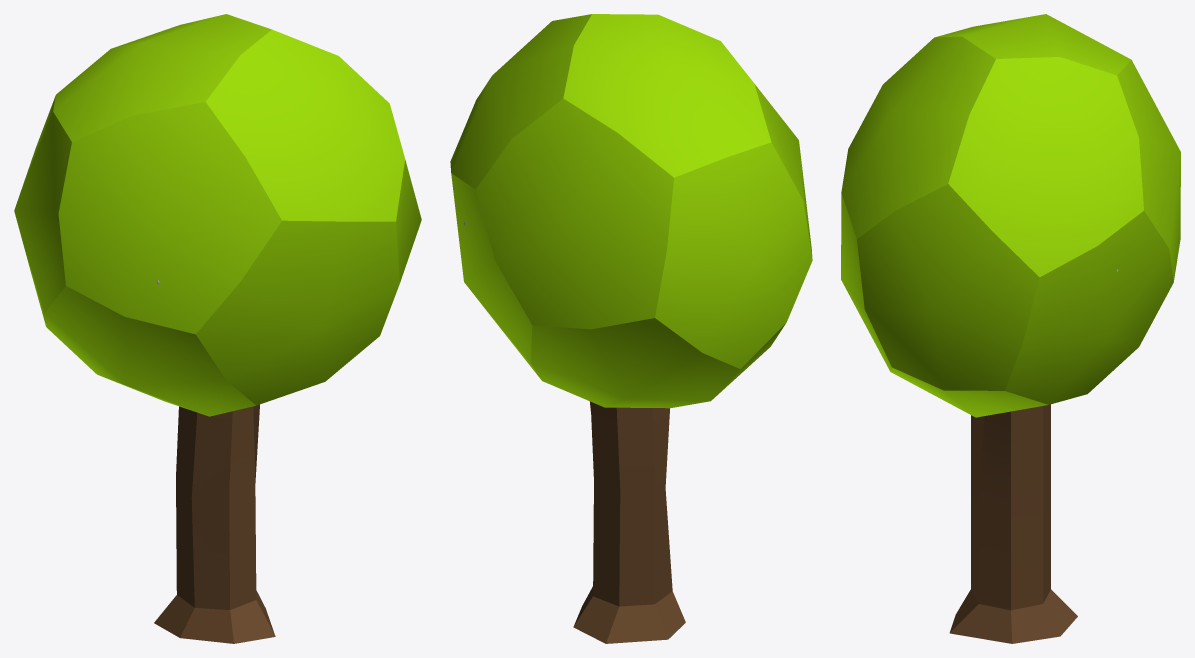
File: tree02.fbx
The picture shows the model from 3 angles, left to right: view 1: azimuth 30°, elevation 25°; view 2: azimuth 150°, elevation 25°; view 3: azimuth 270°, elevation 25°; orthographic projection.
Parts seen in each view (by area): view 1: Tree, Stump; view 2: Tree, Stump; view 3: Tree, Stump.
Boxes of the visible parts, bbox=[...] form: Tree: bbox=[14, 14, 421, 609]; Stump: bbox=[154, 590, 275, 643]; Tree: bbox=[450, 14, 812, 606]; Stump: bbox=[573, 586, 685, 643]; Tree: bbox=[841, 14, 1180, 610]; Stump: bbox=[949, 589, 1077, 643].
Size of what is drawn, in the model's own units: 5.59 by 9.4 by 4.96.
